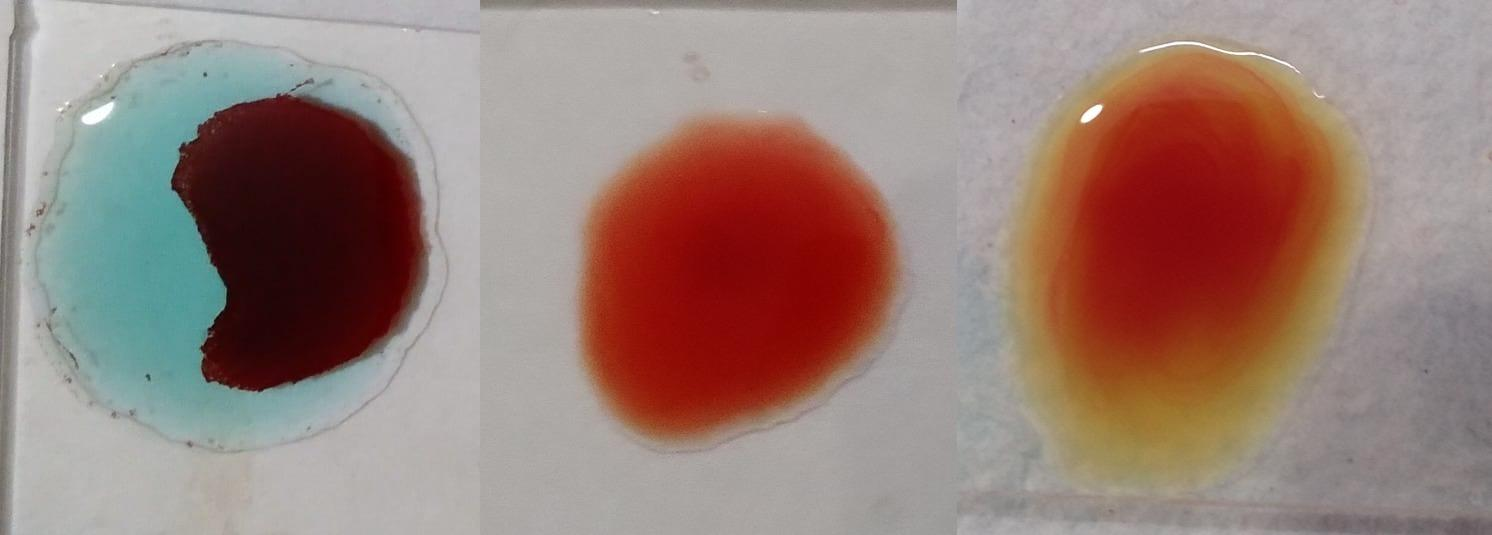A: (57, 43, 435, 458)
